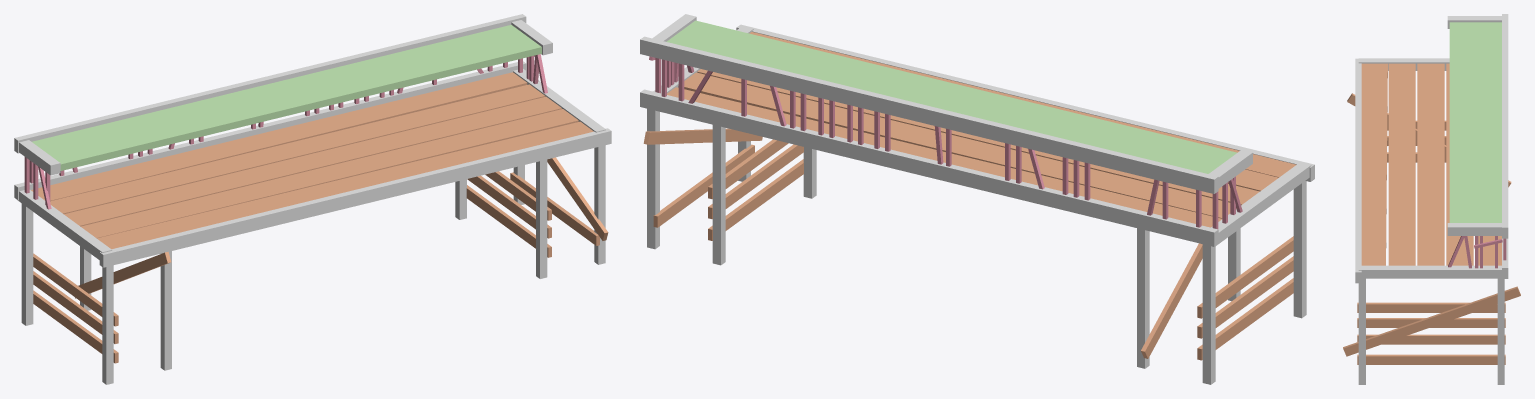
File: AlchemyBench.fbx
3 renders of one model, left to right at view 1: azimuth 30°, elevation 25°; view 2: azimuth 150°, elevation 25°; view 3: azimuth 270°, elevation 25°, orthographic. The views are drawn at different scales.
Parts seen in each view (by area): view 1: ABench_LOD0; view 2: ABench_LOD0; view 3: ABench_LOD0.
Boxes of the visible parts, x1=… form: ABench_LOD0: x1=14, y1=14, x2=611, y2=384; ABench_LOD0: x1=640, y1=14, x2=1314, y2=384; ABench_LOD0: x1=1343, y1=14, x2=1520, y2=384.
Size of what is drawn, in the model's own units: 1033 by 359 by 363.
